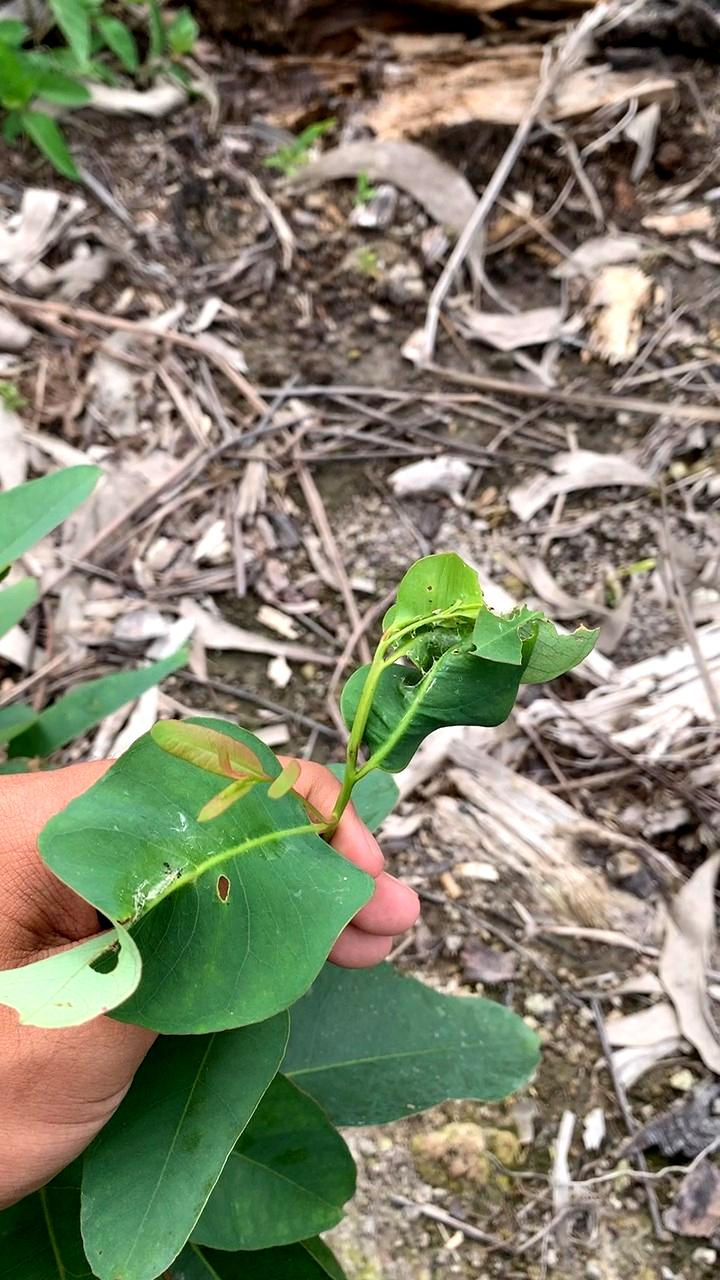Leaf Roller - Leaf: (315, 539, 621, 783)
